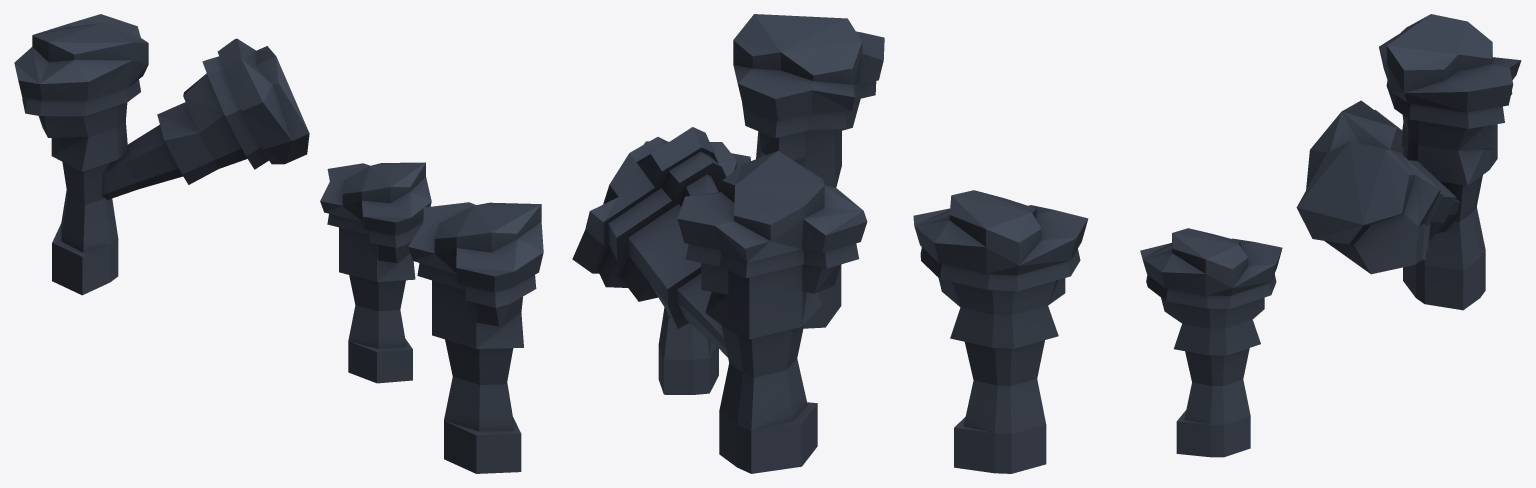
Rendered from Stone_02.FBX.
3 renders of one model, left to right at view 1: azimuth 30°, elevation 25°; view 2: azimuth 150°, elevation 25°; view 3: azimuth 270°, elevation 25°, orthographic. The views are drawn at different scales.
Visible parts, largest first — view 1: Stone_02; view 2: Stone_02; view 3: Stone_02.
Boxes of the visible parts, bbox=[...] form: Stone_02: bbox=[14, 14, 543, 473]; Stone_02: bbox=[572, 14, 884, 473]; Stone_02: bbox=[913, 14, 1521, 473].
Size of the model in its own units: 32.41 by 31.48 by 52.37.
